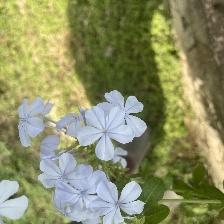chitrak: (79, 103, 135, 160), (93, 181, 145, 224), (40, 156, 87, 188)
